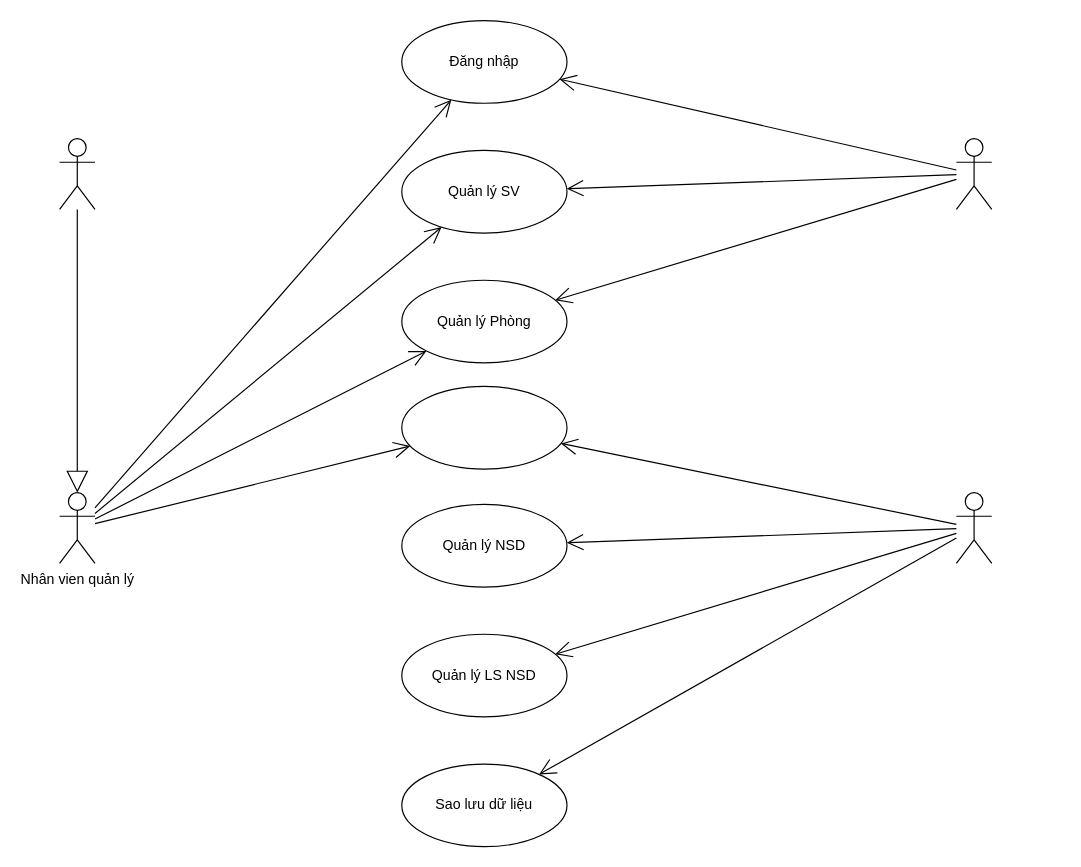
This 1081x867 diagram has some shape labels left out. The shapes that lost their labels are listed below. From the top down, each one's centre as x and y in pixels, then its label:
the point at 76,173: Sinh Viên
the point at 973,173: Giám đốc
the point at 484,427: Báo cáo thống kê
the point at 973,527: Nhân viên quản trị hệ thống
